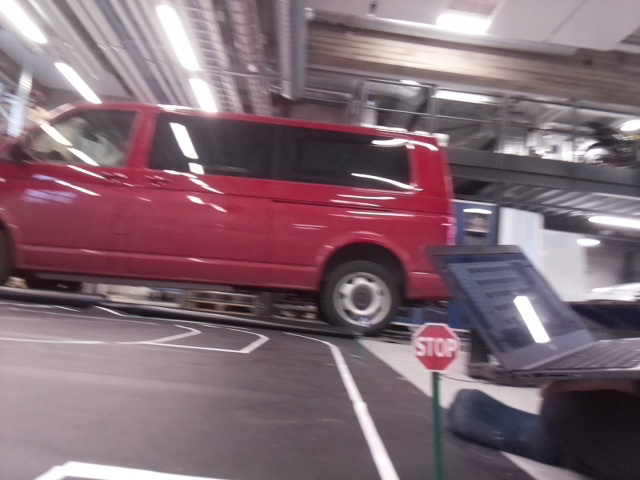Stop: (411, 321, 458, 373)
